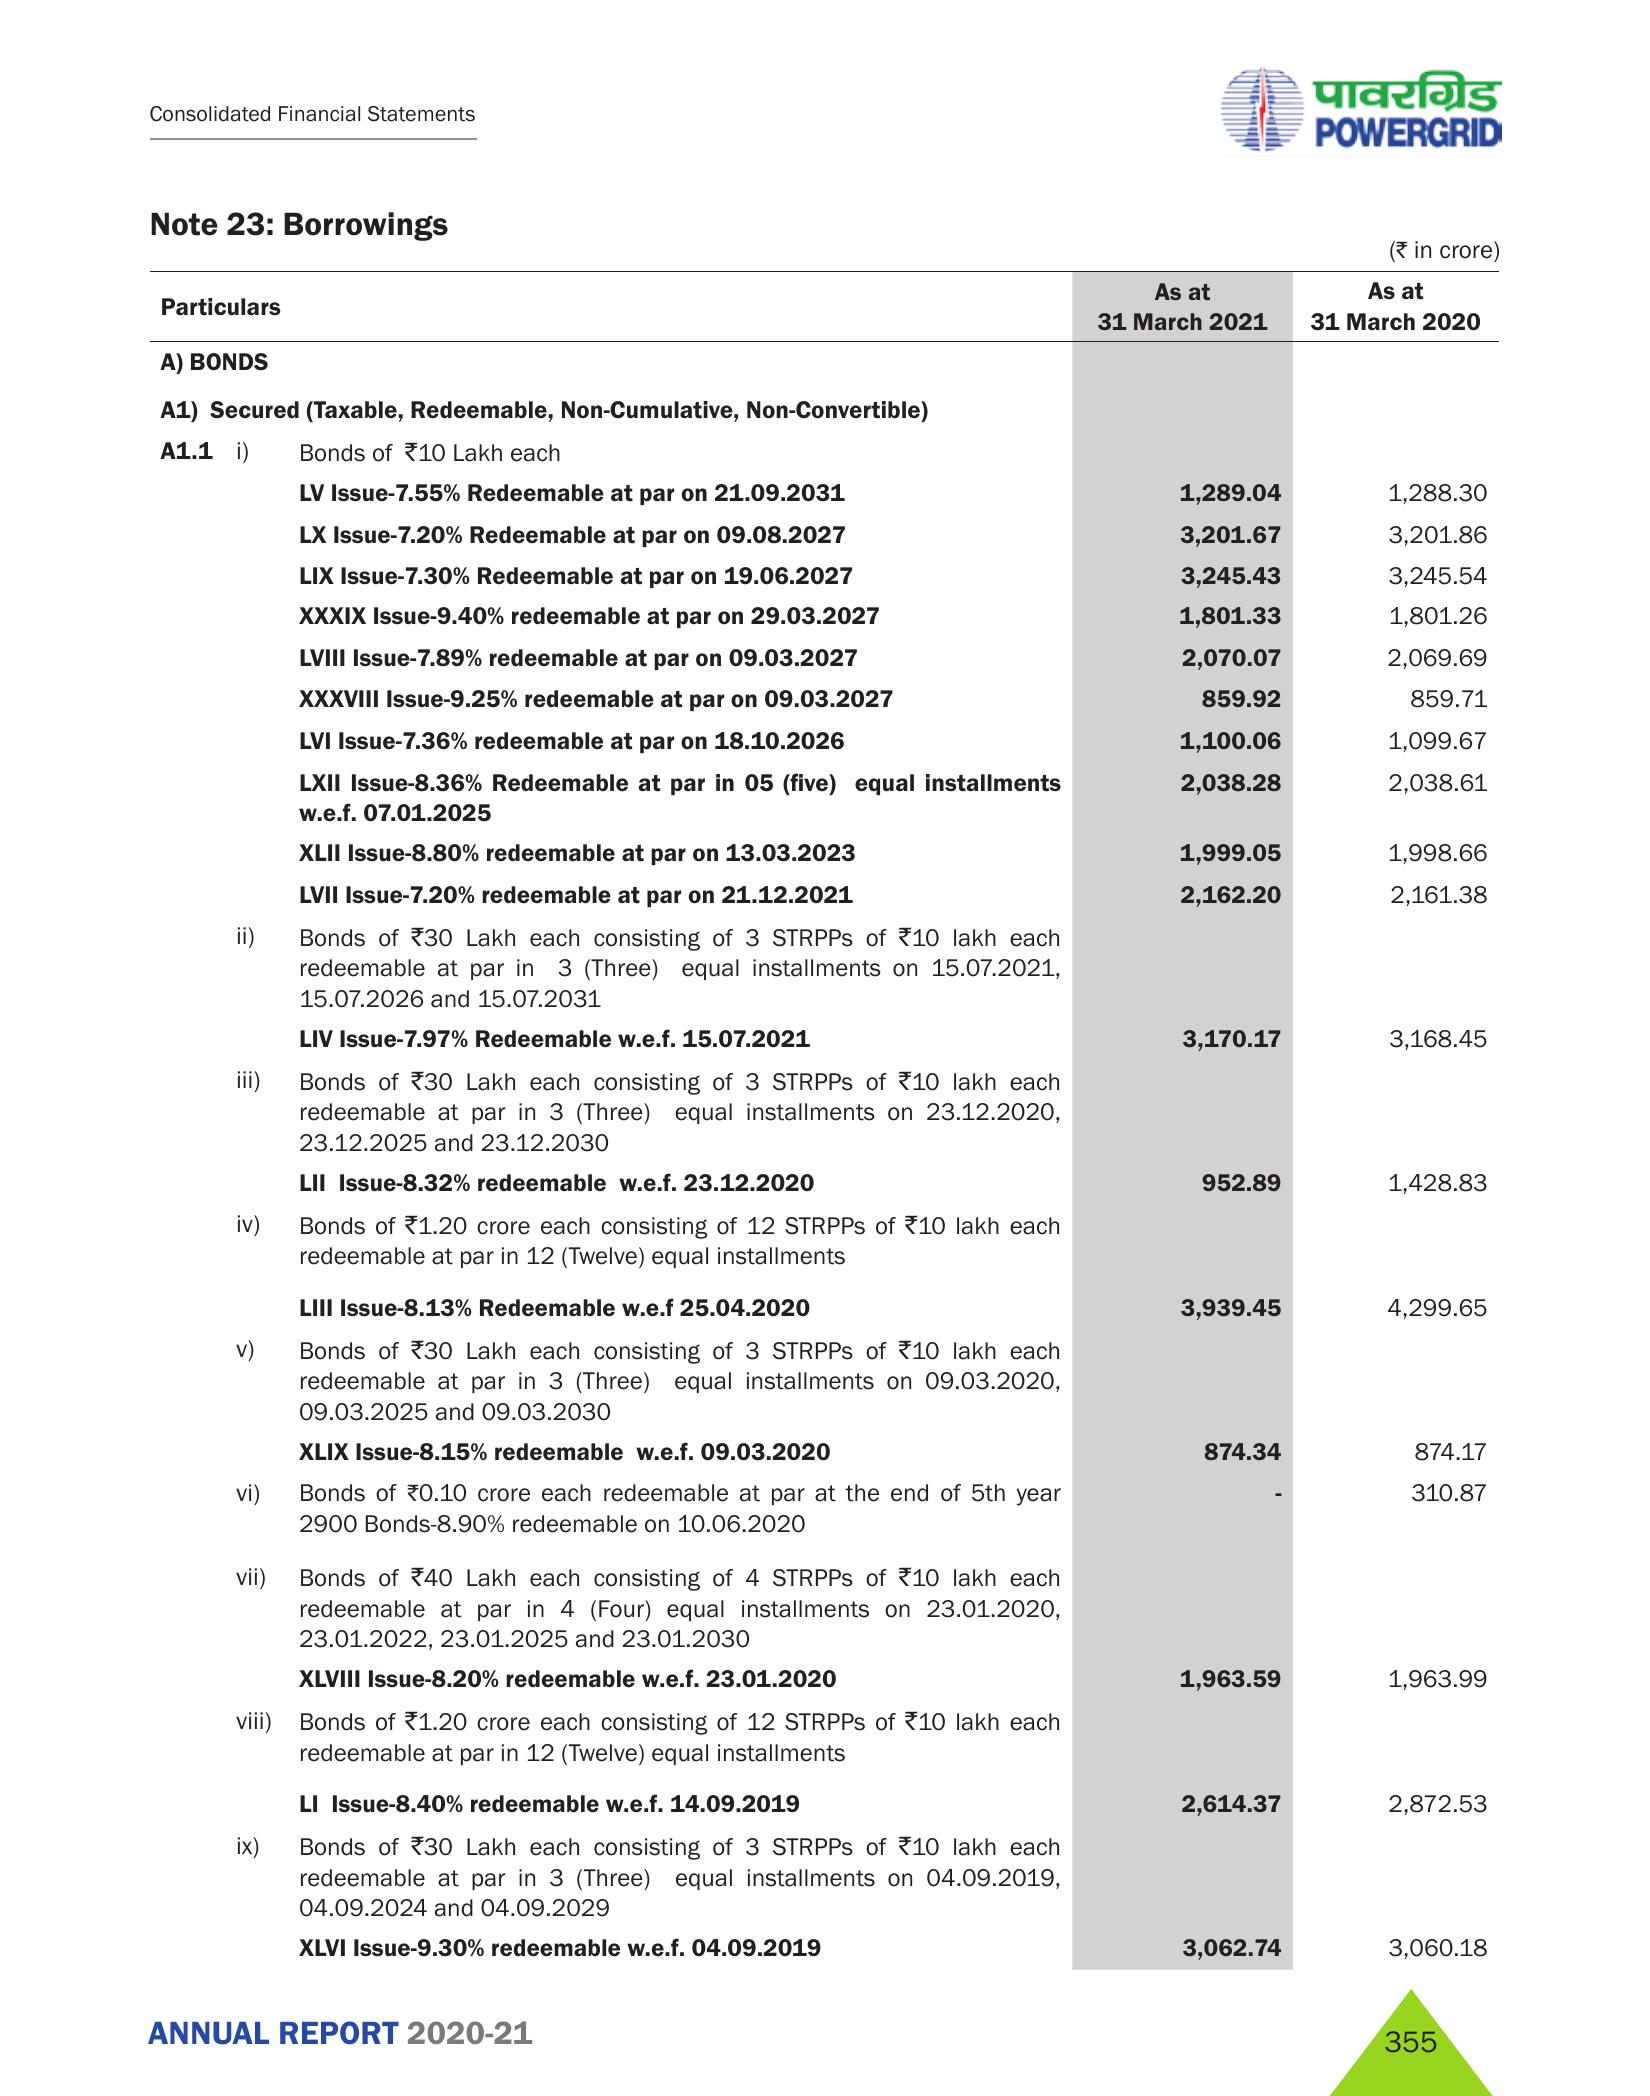Footer: (0, 1965, 1650, 2096)
Header: (0, 0, 1650, 175)
Table: (146, 274, 1536, 1965)
